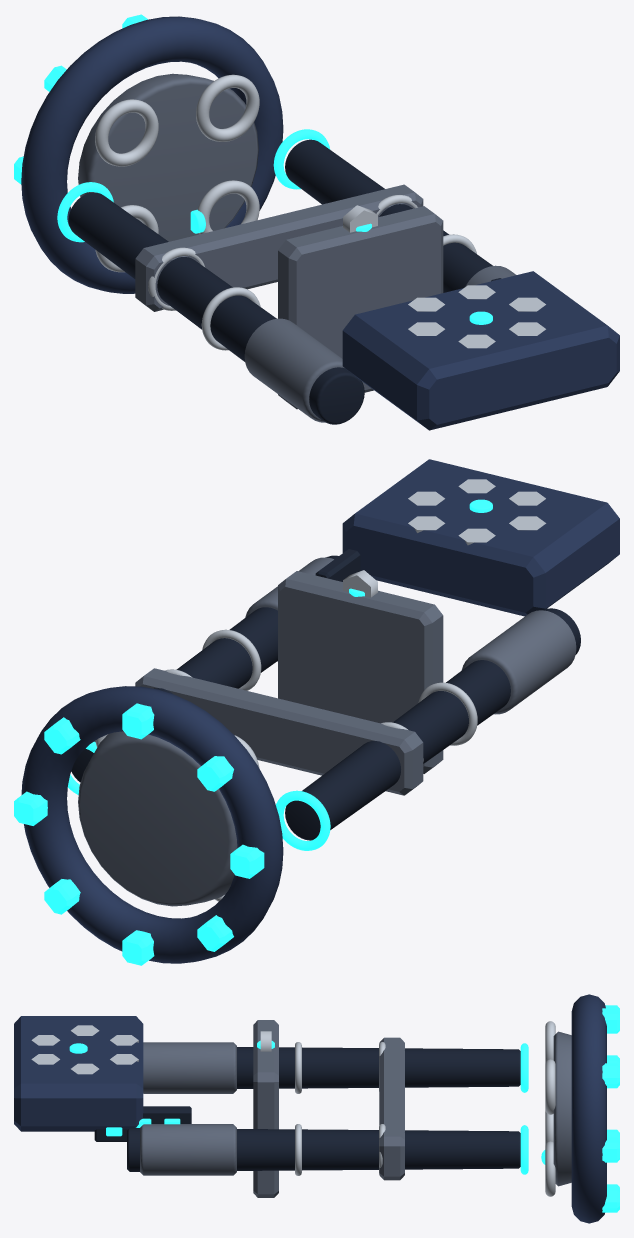
File: tower_skywatch_damage_s7.glb
3 views of the same model, one above another, from view 1: azimuth 30°, elevation 25°; view 2: azimuth 150°, elevation 25°; view 3: azimuth 270°, elevation 25° (orthographic). The views are drawn at different scales.
Visible parts, largest first — view 1: skywatch_housing_armour, skywatch_fuse_ring, skywatch_fuse_collar, skywatch_barrel_clamp_b, skywatch_barrel_b_r, skywatch_barrel_b_clamp, skywatch_barrel_b_l, skywatch_barrel_b_jacket_r, skywatch_armour_bolts, skywatch_crown3, skywatch_crown1, skywatch_crown0 (+6 smaller); view 2: skywatch_housing_armour, skywatch_fuse_ring, skywatch_fuse_collar, skywatch_barrel_clamp_b, skywatch_barrel_b_clamp, skywatch_barrel_b_r, skywatch_barrel_b_jacket_r, skywatch_barrel_b_l, skywatch_armour_bolts, skywatch_barrel_b_crown0.3, skywatch_barrel_b_ring_r0, skywatch_fuse_node0 (+10 smaller); view 3: skywatch_housing_armour, skywatch_barrel_b_l, skywatch_barrel_b_r, skywatch_fuse_ring, skywatch_barrel_b_jacket_l, skywatch_barrel_b_jacket_r, skywatch_barrel_b_clamp, skywatch_barrel_clamp_b, skywatch_fuse_collar, skywatch_armour_bolts, skywatch_ammo_indicator, skywatch_crown1 (+10 smaller).
Boxes of the visible parts, <box> form: skywatch_housing_armour: <box>342,271,619,430</box>; skywatch_fuse_ring: <box>21,16,283,293</box>; skywatch_fuse_collar: <box>78,73,258,241</box>; skywatch_barrel_clamp_b: <box>278,206,443,409</box>; skywatch_barrel_b_r: <box>68,192,364,424</box>; skywatch_barrel_b_clamp: <box>135,184,423,311</box>; skywatch_barrel_b_l: <box>285,139,492,292</box>; skywatch_barrel_b_jacket_r: <box>244,318,344,422</box>; skywatch_armour_bolts: <box>408,285,545,348</box>; skywatch_crown3: <box>95,99,158,166</box>; skywatch_crown1: <box>196,74,259,141</box>; skywatch_crown0: <box>197,180,259,234</box>; skywatch_housing_armour: <box>342,459,619,616</box>; skywatch_fuse_ring: <box>21,686,283,963</box>; skywatch_fuse_collar: <box>78,731,237,906</box>; skywatch_barrel_clamp_b: <box>278,571,443,773</box>; skywatch_barrel_b_clamp: <box>135,668,423,795</box>; skywatch_barrel_b_r: <box>285,608,580,840</box>; skywatch_barrel_b_jacket_r: <box>461,610,576,714</box>; skywatch_barrel_b_l: <box>71,555,338,782</box>; skywatch_armour_bolts: <box>408,479,546,545</box>; skywatch_barrel_b_crown0.3: <box>276,790,330,850</box>; skywatch_barrel_b_ring_r0: <box>418,682,477,745</box>; skywatch_fuse_node0: <box>230,844,264,878</box>; skywatch_housing_armour: <box>14,1016,143,1131</box>; skywatch_barrel_b_l: <box>127,1128,520,1171</box>; skywatch_barrel_b_r: <box>237,1047,520,1088</box>; skywatch_fuse_ring: <box>571,994,606,1223</box>; skywatch_barrel_b_jacket_l: <box>140,1124,236,1175</box>; skywatch_barrel_b_jacket_r: <box>143,1042,236,1093</box>; skywatch_barrel_b_clamp: <box>379,1037,404,1180</box>; skywatch_barrel_clamp_b: <box>253,1020,278,1197</box>; skywatch_fuse_collar: <box>553,1031,571,1186</box>; skywatch_armour_bolts: <box>31,1025,138,1074</box>; skywatch_ammo_indicator: <box>94,1106,191,1141</box>; skywatch_crown1: <box>545,1059,555,1114</box>.
Size of the model in its own units: 0.7688 by 0.71 by 1.88.
